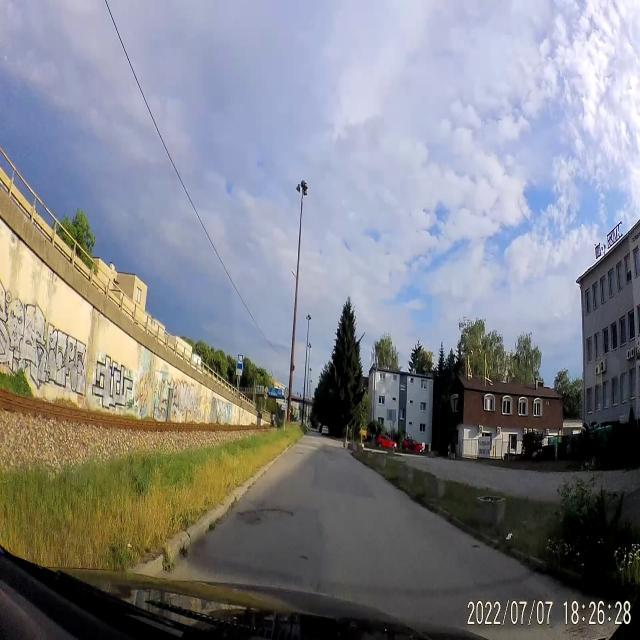Pothole: (235, 503, 295, 532)
